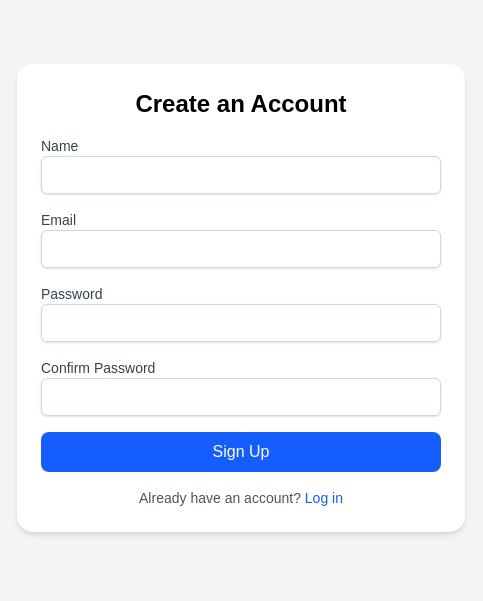
Test: Signup Page - Validation › should show required field errors on submit
Click the button "Sign Up" at (241, 452), box [41,432,441,472]
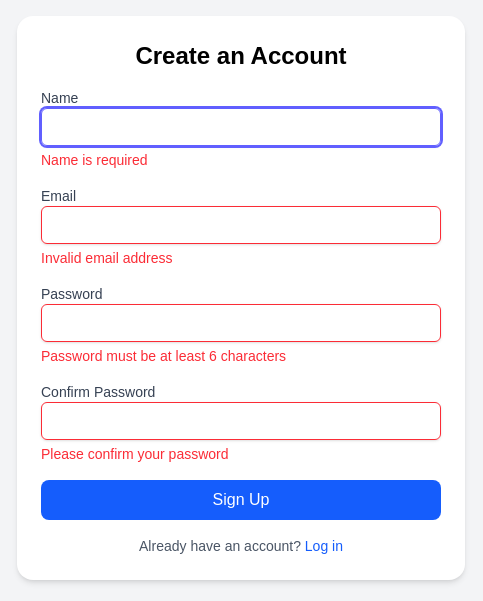
Expected: the text "Name is required" is shown, [41,152,148,168]
Expected: the text "Invalid email address" is shown, [41,250,172,266]
Expected: the text "Password must be at least 6 characters" is shown, [41,348,286,364]
